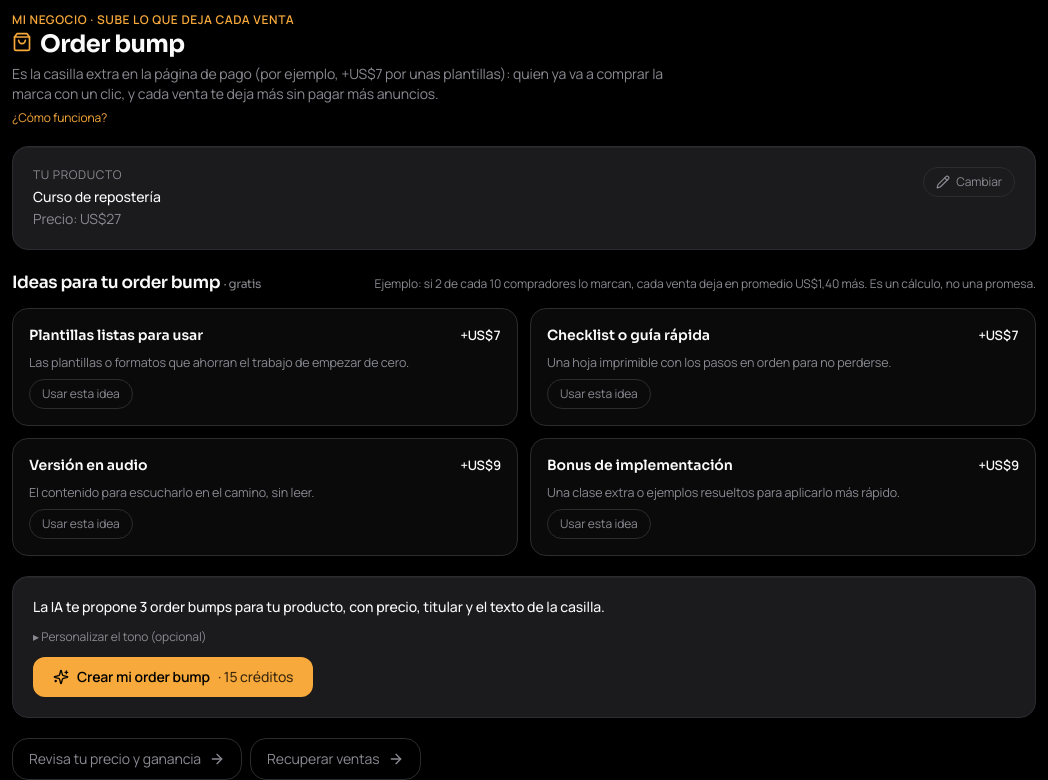
Test: OrderBumpPage › elegir una idea no gasta nada
Click the button "Usar esta idea" below "Plantillas listas para usar". click: (81, 394)
box: [29,379,133,409]
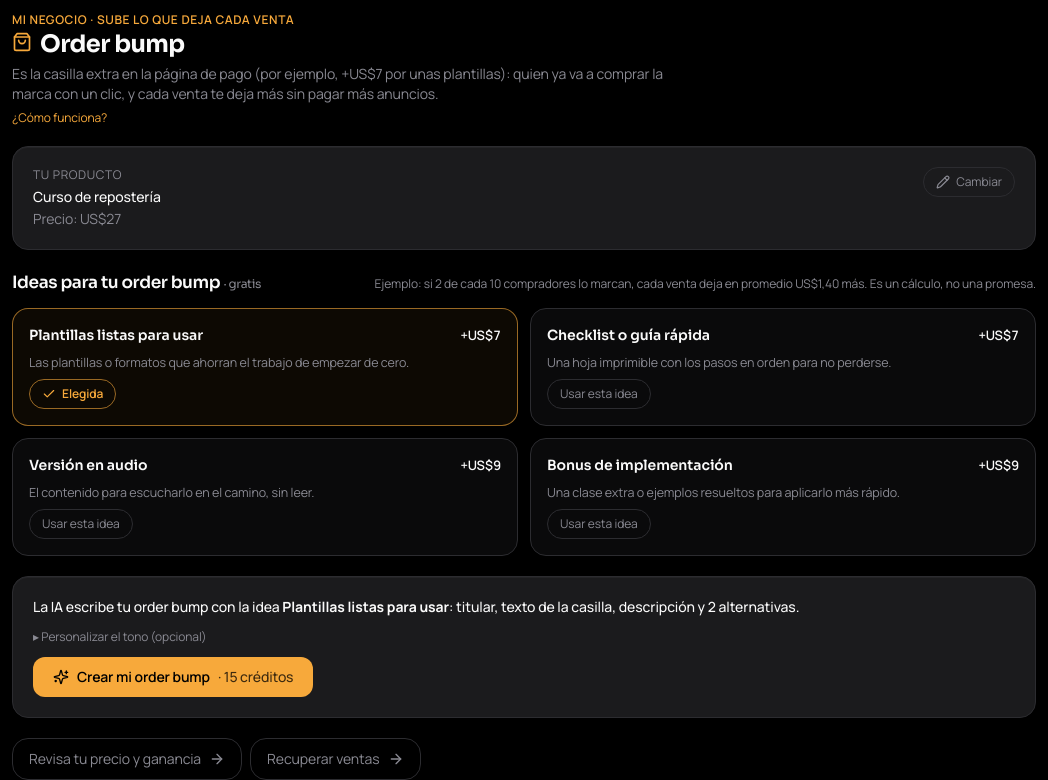
Result: the button "Elegida" is shown at [29,379,116,409]
